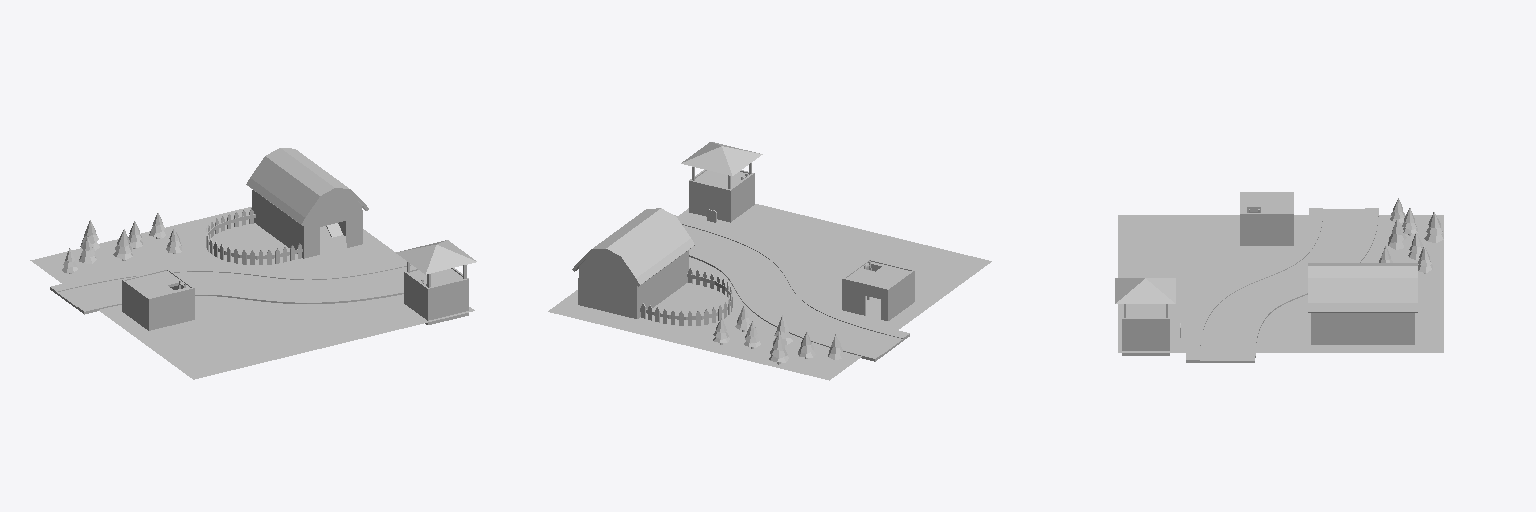
Rendered from full starting mapCoolEdition.obj.
3 views of the same model, side by side, from view 1: azimuth 30°, elevation 25°; view 2: azimuth 150°, elevation 25°; view 3: azimuth 270°, elevation 25° (orthographic).
Visible parts, largest first — view 1: Plane, Road, Barn, Cone, Building1, Barn_Fence; view 2: Plane, Road, Barn, Cone, Building1, Barn_Fence; view 3: Plane, Road, Barn, Cone, Building1.
Boxes of the visible parts, box(x1,y1,x2,y2) form: Plane: box(30, 207, 474, 379); Road: box(50, 260, 415, 314); Barn: box(246, 148, 368, 258); Cone: box(396, 240, 476, 324); Building1: box(122, 269, 194, 330); Barn_Fence: box(206, 208, 302, 264); Plane: box(548, 204, 991, 380); Road: box(674, 215, 909, 361); Barn: box(572, 208, 694, 318); Cone: box(681, 142, 762, 222); Building1: box(842, 259, 914, 320); Barn_Fence: box(640, 268, 732, 325); Plane: box(1118, 215, 1443, 352); Road: box(1186, 208, 1378, 362); Barn: box(1308, 263, 1417, 344); Cone: box(1115, 278, 1175, 355); Building1: box(1240, 192, 1293, 245).
Bounding box in the file's own units: 65.84 × 14.14 × 59.84.